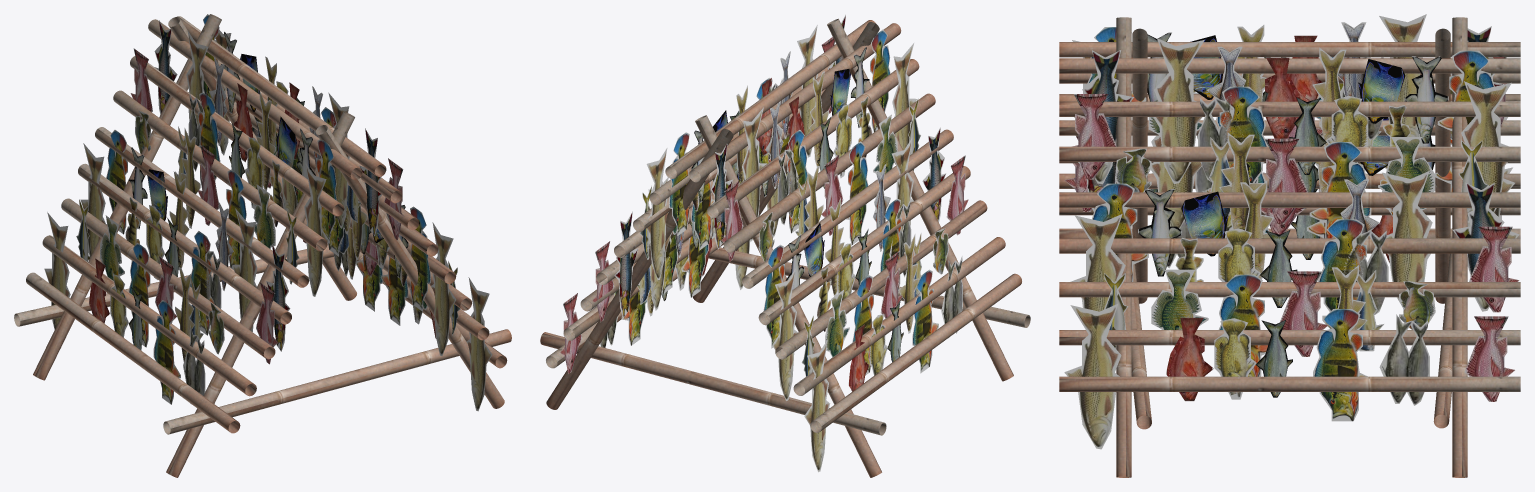
The model's file is fish_rack.glb.
3 renders of one model, left to right at view 1: azimuth 30°, elevation 25°; view 2: azimuth 150°, elevation 25°; view 3: azimuth 270°, elevation 25°, orthographic. The views are drawn at different scales.
Visible parts, largest first — view 1: Bamboo Pole.030_Bamboo Pole_0, Bamboo Pole.029_Bamboo Pole_0, Bamboo Pole.043_Bamboo Pole_0, Bamboo Pole.028_Bamboo Pole_0, Bamboo Pole.031_Bamboo Pole_0, Bamboo Pole.036_Bamboo Pole_0, Bamboo Pole.044_Bamboo Pole_0, Bamboo Pole.039_Bamboo Pole_0, Bamboo Pole.027_Bamboo Pole_0, Bamboo Pole.040_Bamboo Pole_0, Bamboo Pole.026_Bamboo Pole_0, Bamboo Pole.038_Bamboo Pole_0 (+55 smaller); view 2: Bamboo Pole.041_Bamboo Pole_0, Bamboo Pole.029_Bamboo Pole_0, Bamboo Pole.042_Bamboo Pole_0, Bamboo Pole.028_Bamboo Pole_0, Bamboo Pole.031_Bamboo Pole_0, Bamboo Pole.039_Bamboo Pole_0, Bamboo Pole.027_Bamboo Pole_0, Bamboo Pole.036_Bamboo Pole_0, Bamboo Pole.040_Bamboo Pole_0, Bamboo Pole.026_Bamboo Pole_0, Bamboo Pole.043_Bamboo Pole_0, Bamboo Pole.038_Bamboo Pole_0 (+58 smaller); view 3: Bamboo Pole.032_Bamboo Pole_0, Bamboo Pole.037_Bamboo Pole_0, Bamboo Pole.025_Bamboo Pole_0, Bamboo Pole.023_Bamboo Pole_0, Bamboo Pole.035_Bamboo Pole_0, Bamboo Pole.024_Bamboo Pole_0, Bamboo Pole.034_Bamboo Pole_0, Bamboo Pole.036_Bamboo Pole_0, Bamboo Pole.033_Bamboo Pole_0, Bamboo Pole.042_Bamboo Pole_0, Fish 15.004_33264-004-BE0FADDC.001_0, Bamboo Pole.044_Bamboo Pole_0 (+66 smaller).
Boxes of the visible parts, bbox=[...] form: Bamboo Pole.030_Bamboo Pole_0: bbox=[163, 329, 511, 434]; Bamboo Pole.029_Bamboo Pole_0: bbox=[26, 272, 240, 433]; Bamboo Pole.043_Bamboo Pole_0: bbox=[33, 14, 221, 380]; Bamboo Pole.028_Bamboo Pole_0: bbox=[42, 235, 256, 396]; Bamboo Pole.031_Bamboo Pole_0: bbox=[166, 111, 354, 477]; Bamboo Pole.036_Bamboo Pole_0: bbox=[177, 16, 386, 176]; Bamboo Pole.044_Bamboo Pole_0: bbox=[315, 125, 504, 408]; Bamboo Pole.039_Bamboo Pole_0: bbox=[95, 127, 309, 287]; Bamboo Pole.027_Bamboo Pole_0: bbox=[78, 163, 291, 324]; Bamboo Pole.040_Bamboo Pole_0: bbox=[61, 198, 275, 359]; Bamboo Pole.026_Bamboo Pole_0: bbox=[113, 90, 327, 251]; Bamboo Pole.038_Bamboo Pole_0: bbox=[130, 56, 344, 216]; Bamboo Pole.041_Bamboo Pole_0: bbox=[540, 332, 886, 435]; Bamboo Pole.029_Bamboo Pole_0: bbox=[810, 273, 1021, 432]; Bamboo Pole.042_Bamboo Pole_0: bbox=[546, 129, 733, 409]; Bamboo Pole.028_Bamboo Pole_0: bbox=[793, 237, 1005, 395]; Bamboo Pole.031_Bamboo Pole_0: bbox=[827, 18, 1013, 381]; Bamboo Pole.039_Bamboo Pole_0: bbox=[741, 129, 953, 288]; Bamboo Pole.027_Bamboo Pole_0: bbox=[758, 166, 970, 325]; Bamboo Pole.036_Bamboo Pole_0: bbox=[665, 20, 876, 178]; Bamboo Pole.040_Bamboo Pole_0: bbox=[775, 200, 987, 359]; Bamboo Pole.026_Bamboo Pole_0: bbox=[723, 93, 935, 252]; Bamboo Pole.043_Bamboo Pole_0: bbox=[695, 115, 881, 477]; Bamboo Pole.038_Bamboo Pole_0: bbox=[707, 59, 919, 217]; Bamboo Pole.032_Bamboo Pole_0: bbox=[1059, 376, 1520, 391]; Bamboo Pole.037_Bamboo Pole_0: bbox=[1059, 42, 1520, 57]; Bamboo Pole.025_Bamboo Pole_0: bbox=[1059, 146, 1520, 161]; Bamboo Pole.023_Bamboo Pole_0: bbox=[1059, 282, 1520, 297]; Bamboo Pole.035_Bamboo Pole_0: bbox=[1059, 101, 1520, 116]; Bamboo Pole.024_Bamboo Pole_0: bbox=[1059, 192, 1520, 207]; Bamboo Pole.034_Bamboo Pole_0: bbox=[1059, 238, 1520, 253]; Bamboo Pole.036_Bamboo Pole_0: bbox=[1059, 58, 1520, 73]; Bamboo Pole.033_Bamboo Pole_0: bbox=[1059, 330, 1520, 345]; Bamboo Pole.042_Bamboo Pole_0: bbox=[1452, 17, 1467, 477]; Fish 15.004_33264-004-BE0FADDC.001_0: bbox=[1064, 303, 1121, 449]; Bamboo Pole.044_Bamboo Pole_0: bbox=[1116, 17, 1131, 477].
Size of the model in its own units: 0.2806 by 0.2471 by 0.279.
Materials: 18 (18 with a texture image).
